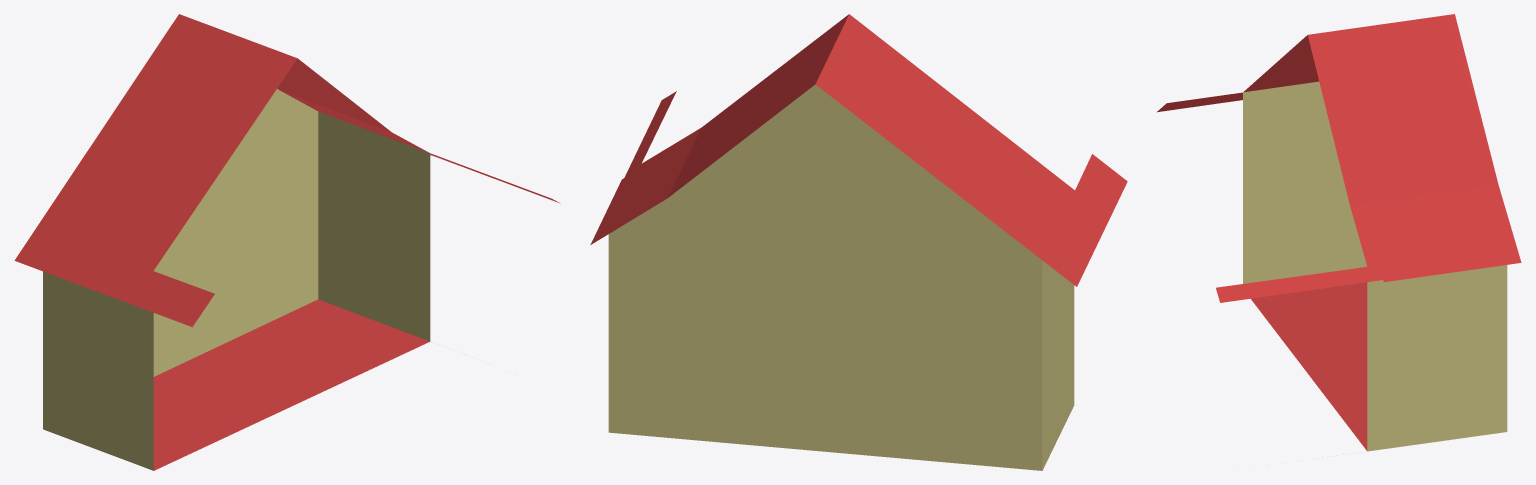
The picture shows the model from 3 angles, left to right: view 1: azimuth 30°, elevation 25°; view 2: azimuth 150°, elevation 25°; view 3: azimuth 270°, elevation 25°; orthographic projection. The views are drawn at different scales.
Bounding box in the file's own units: 20.59 × 14.22 × 14.55.
